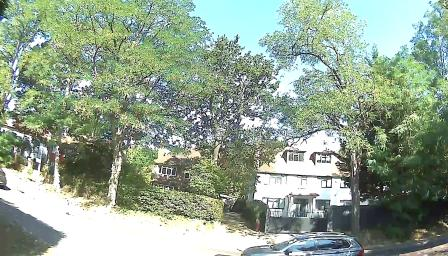Cars: (225, 208, 386, 256)
